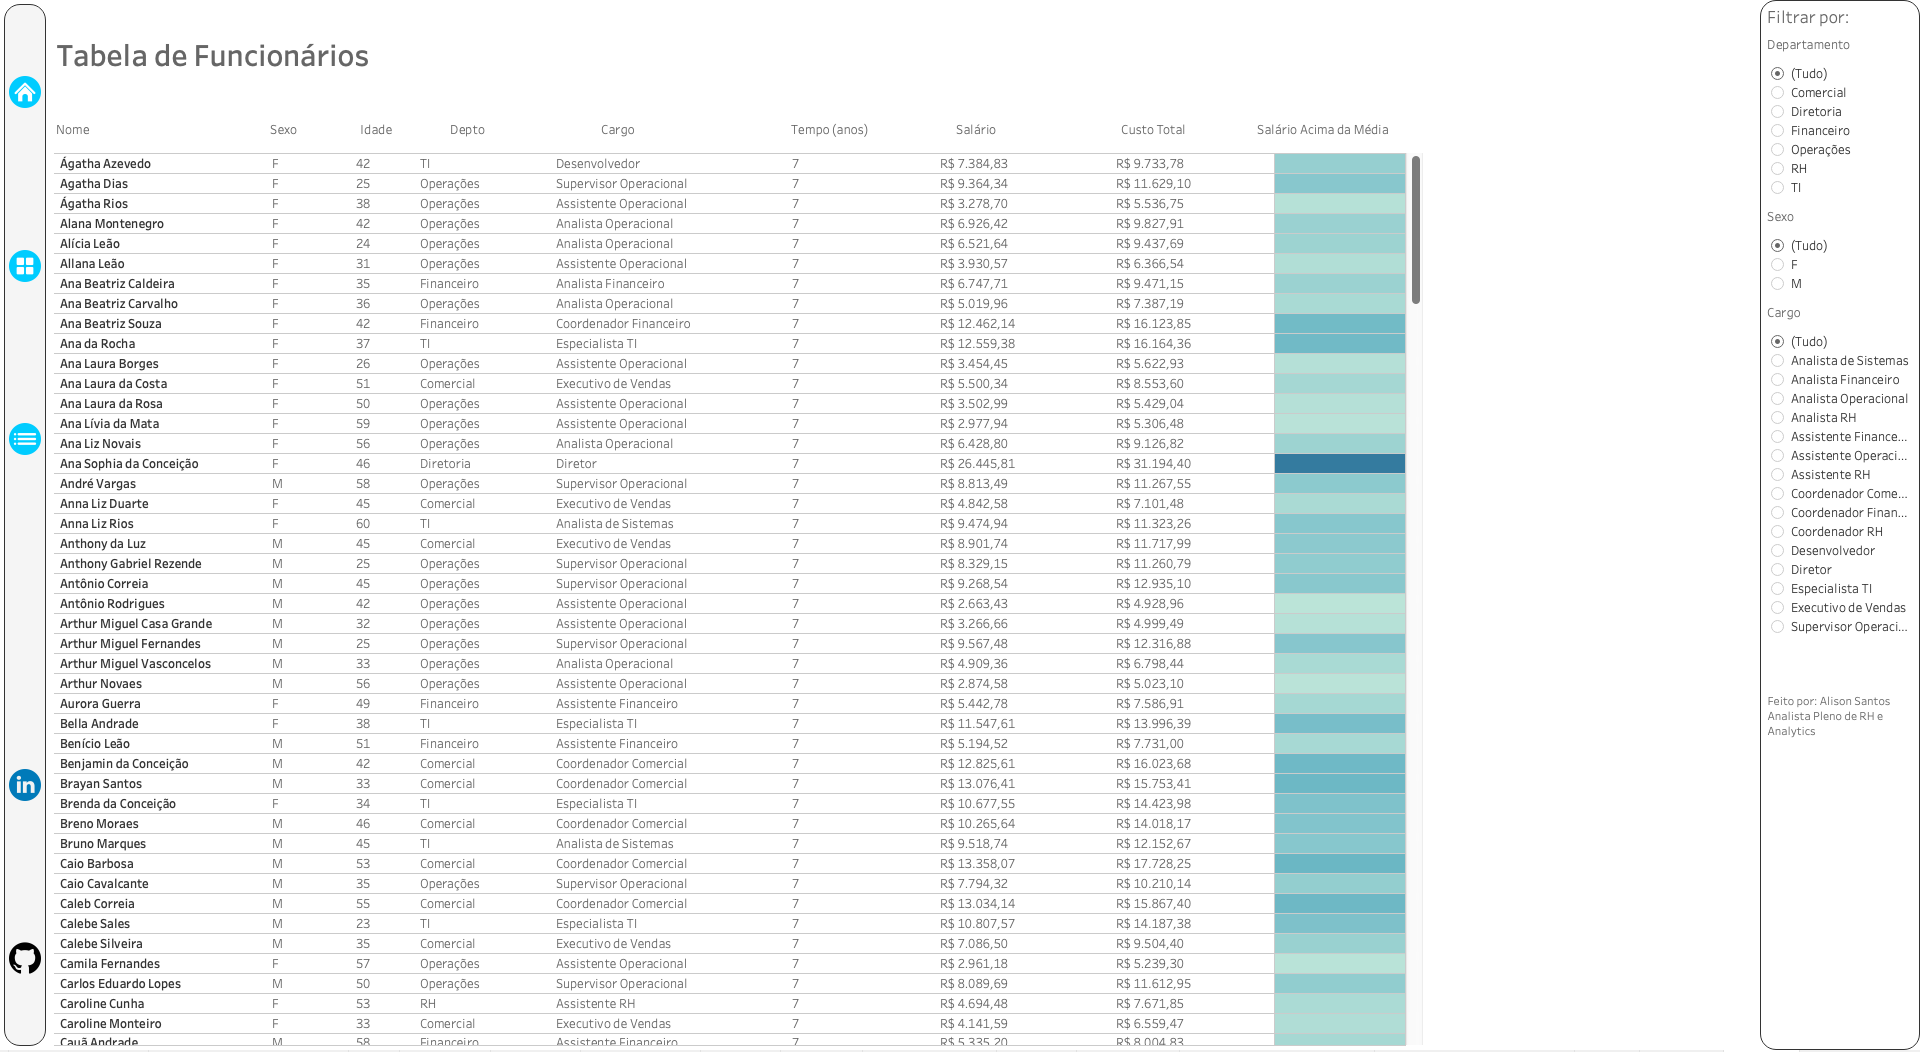

The dashboard page shown, as its layout file describes it:
{"tool":"tableau","page":{"name":"Tabelas","canvas":[1000,1000],"units":"permille","ordinal":2},"visuals":[{"type":"text","box":[29.8,0,874.7,103.6]},{"type":"text","box":[905.1,1.1,94.3,35.4]},{"type":"dashboard-object","box":[3,5.7,23.9,165.7]},{"type":"text","box":[905.1,36.6,94.3,28.6]},{"type":"filter","title":"Tabela","param":"[federated.0pr0eoh1fvctpj18t7cgq0z2kr19].[none:departamento:nk]","box":[905.1,65.1,94.3,168]},{"type":"text","box":[29.8,103.6,109.6,38.4]},{"type":"text","box":[139.5,103.6,46,38.4]},{"type":"text","box":[185.5,103.6,45.8,38.4]},{"type":"text","box":[231.2,103.6,77.6,38.4]},{"type":"text","box":[308.9,103.6,96.7,38.4]},{"type":"text","box":[405.5,103.6,84.8,38.4]},{"type":"text","box":[490.3,103.6,84.2,38.4]},{"type":"text","box":[574.5,103.6,69.8,38.4]},{"type":"text","box":[644.2,103.6,260.3,38.4]},{"type":"worksheet","title":"Tabela","mark":"Automatic","rows":["nome","sexo","idade","departamento","cargo","anos_empresa","salario_base","custo_total"],"box":[29.8,142,874.7,858]},{"type":"dashboard-object","box":[3,171.4,23.9,164.6]},{"type":"text","box":[905.1,233.1,94.3,28.6]},{"type":"filter","title":"Tabela","param":"[federated.0pr0eoh1fvctpj18t7cgq0z2kr19].[none:sexo:nk]","box":[905.1,261.7,94.3,81.1]},{"type":"dashboard-object","box":[3,336,23.9,164.6]},{"type":"text","box":[905.1,342.9,94.3,28.6]},{"type":"filter","title":"Tabela","param":"[federated.0pr0eoh1fvctpj18t7cgq0z2kr19].[none:cargo:nk]","box":[905.1,371.4,94.3,363.4]},{"type":"blank","box":[3,500.6,23.9,164.6]},{"type":"image","param":"/Users/alison/Library/Mobile Documents/com~apple~CloudDocs/payroll-analytics/ass","box":[3,665.1,23.9,164.6]},{"type":"text","box":[905.1,734.9,94.3,169.1]},{"type":"image","param":"/Users/alison/Library/Mobile Documents/com~apple~CloudDocs/payroll-analytics/ass","box":[3,829.7,23.9,164.6]}]}

Visuals, with their boxes on the dashboard's canvas, which has no fixed pixel size, in thousandths of its width and height (x1, y1, x2, y2). These are canvas units, not pixel positions in the 1920x1052 screenshot, which may show the page scaled, cropped or inside an application window:
text: l=30, t=0, r=904, b=104
text: l=905, t=1, r=999, b=36
dashboard-object: l=3, t=6, r=27, b=171
text: l=905, t=37, r=999, b=65
"Tabela" filter: l=905, t=65, r=999, b=233
text: l=30, t=104, r=139, b=142
text: l=140, t=104, r=186, b=142
text: l=186, t=104, r=231, b=142
text: l=231, t=104, r=309, b=142
text: l=309, t=104, r=406, b=142
text: l=406, t=104, r=490, b=142
text: l=490, t=104, r=574, b=142
text: l=574, t=104, r=644, b=142
text: l=644, t=104, r=904, b=142
"Tabela" worksheet: l=30, t=142, r=904, b=1000
dashboard-object: l=3, t=171, r=27, b=336
text: l=905, t=233, r=999, b=262
"Tabela" filter: l=905, t=262, r=999, b=343
dashboard-object: l=3, t=336, r=27, b=501
text: l=905, t=343, r=999, b=372
"Tabela" filter: l=905, t=371, r=999, b=735
blank: l=3, t=501, r=27, b=665
image: l=3, t=665, r=27, b=830
text: l=905, t=735, r=999, b=904
image: l=3, t=830, r=27, b=994
